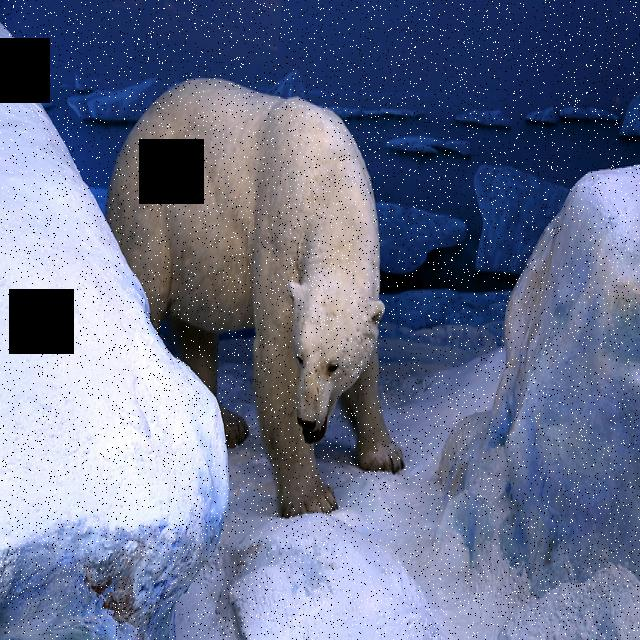Bear: (105, 78, 413, 518)
